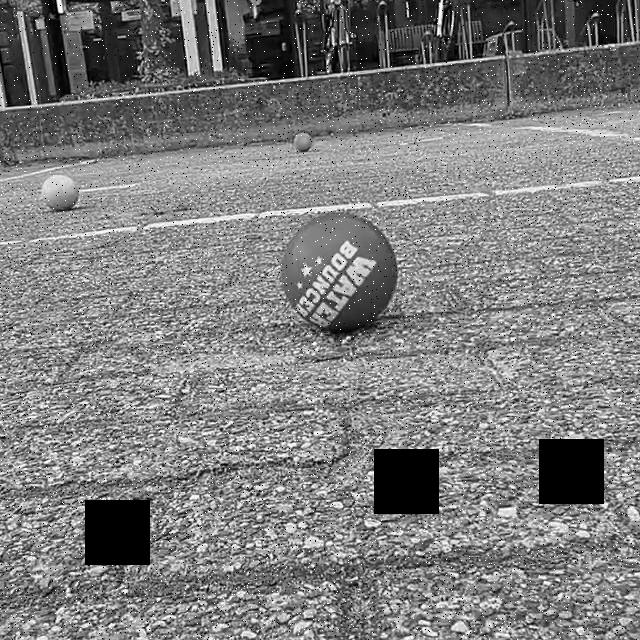ball: (38, 170, 82, 214), (292, 129, 316, 157)
